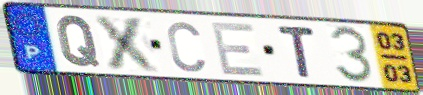3: (327, 24, 376, 86)
C: (165, 19, 208, 74)
E: (208, 20, 267, 78)
Q: (55, 13, 103, 68)
T: (275, 24, 319, 80)
X: (91, 13, 165, 74)
